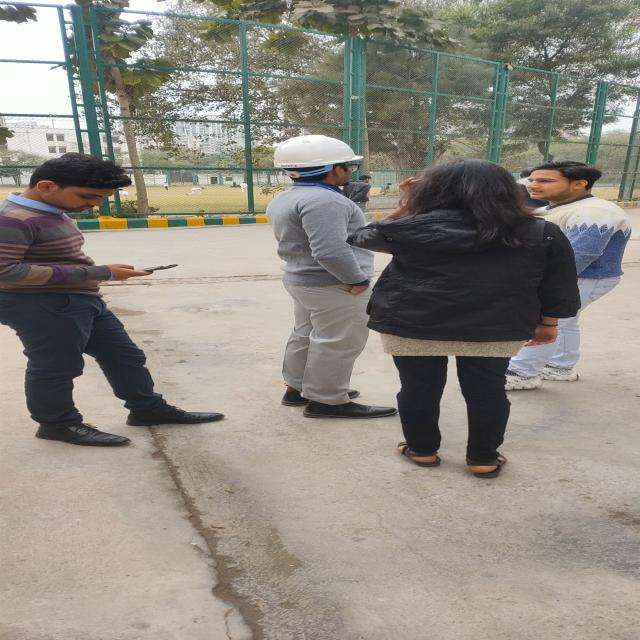no jacket: (273, 136, 400, 420)
unsafe: (350, 160, 582, 471), (0, 154, 195, 443), (522, 158, 633, 306)
